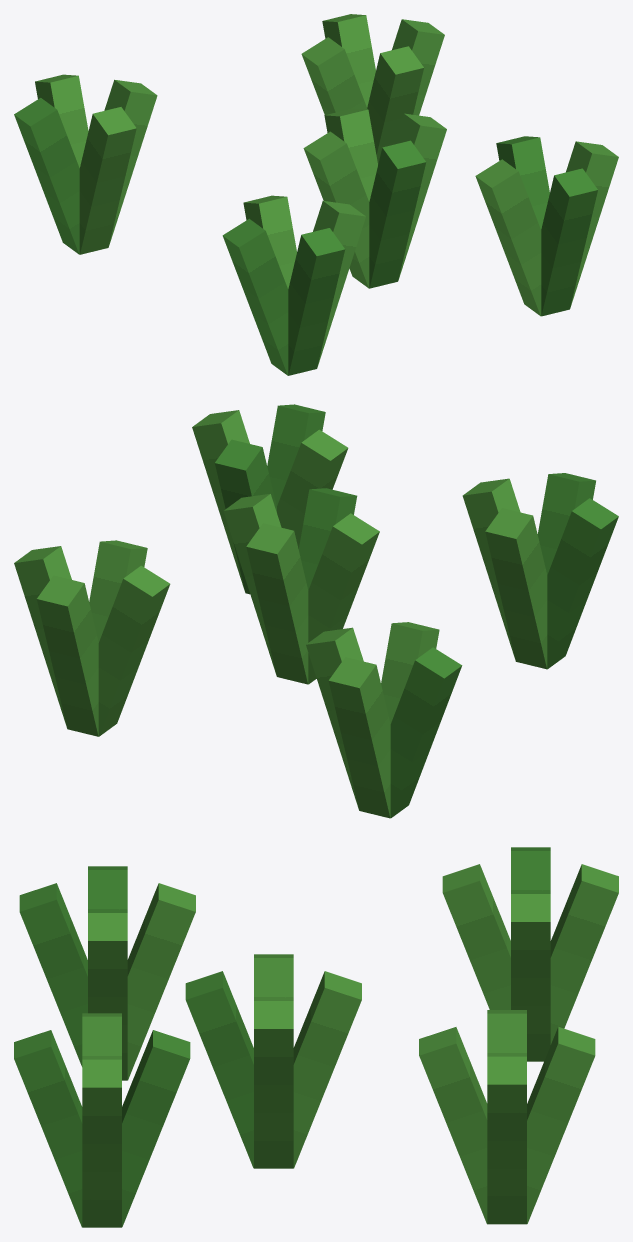
The model's file is crop_carotte_2.glb.
3 renders of one model, top to bottom at view 1: azimuth 30°, elevation 25°; view 2: azimuth 150°, elevation 25°; view 3: azimuth 270°, elevation 25°, orthographic. The views are drawn at different scales.
Parts seen in each view (by area): view 1: Crop; view 2: Crop; view 3: Crop.
Part boxes in pixels (left/top/right/bottom): Crop: left=14, top=14, right=618, bottom=375; Crop: left=14, top=404, right=618, bottom=818; Crop: left=14, top=847, right=618, bottom=1227.
Size of the model in its own units: 0.7184 by 0.252 by 0.7643.
Materials: 2 (2 with a texture image).
